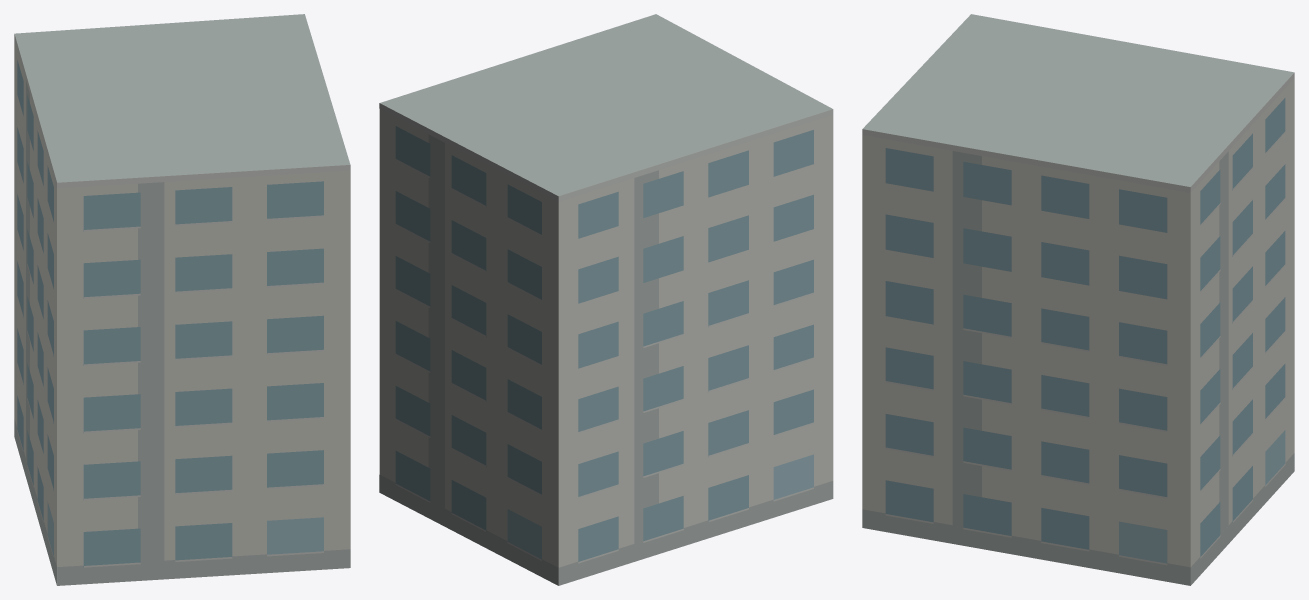
Rendered from survey-upis-32879755.glb.
3 views of the same model, side by side, from view 1: azimuth 30°, elevation 25°; view 2: azimuth 150°, elevation 25°; view 3: azimuth 270°, elevation 25° (orthographic). The views are drawn at different scales.
Visible parts, largest first — view 1: survey-upis-32879755.tmp; view 2: survey-upis-32879755.tmp; view 3: survey-upis-32879755.tmp.
Part boxes in pixels (<box>): survey-upis-32879755.tmp: <box>14,14,350,585</box>; survey-upis-32879755.tmp: <box>379,14,833,585</box>; survey-upis-32879755.tmp: <box>862,14,1294,585</box>.
Size of the model in its own units: 15.56 by 16.7 by 16.42.
